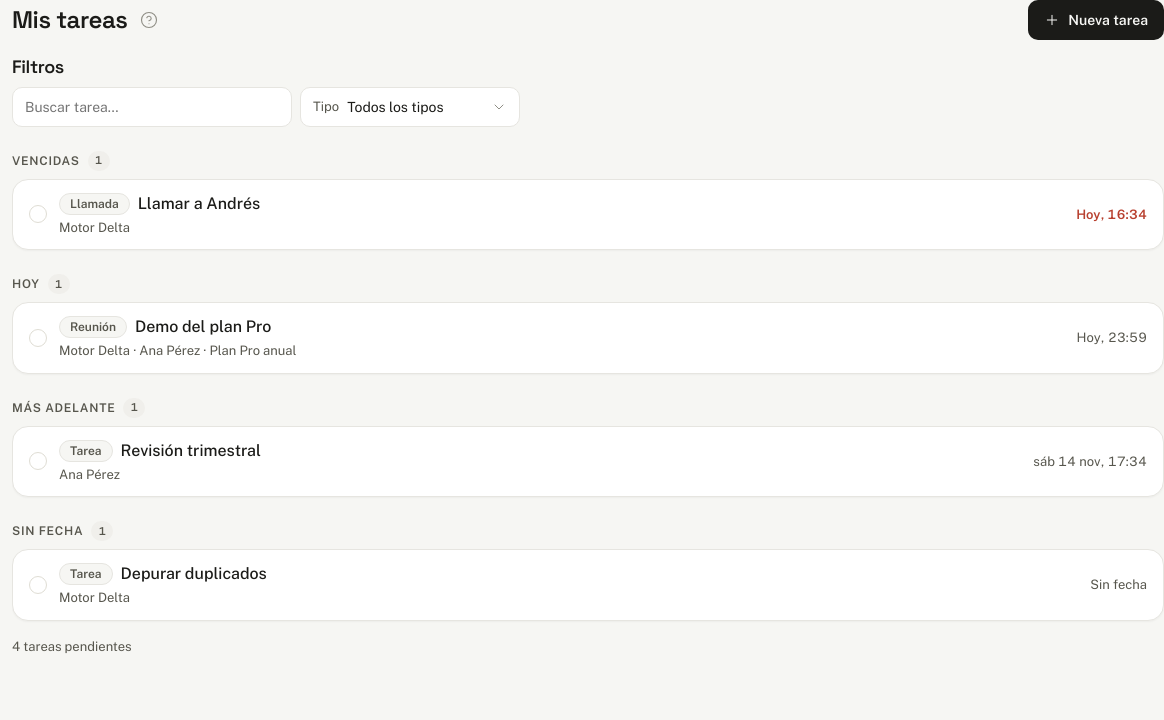
Scenario: MyTasksPage › (b) tildar el checkbox dispara PATCH { completedAt: ahora } y la fila pasa en el acto a 'Esperando confirmación', sin checkbox y con la fecha de completada (§29
Expected: the text "Llamar a Andrés" is shown, [138,192,260,216]
Step 1. Click the checkbox named "Completar: Llamar a Andrés" → (38, 214), box [29,205,47,223]
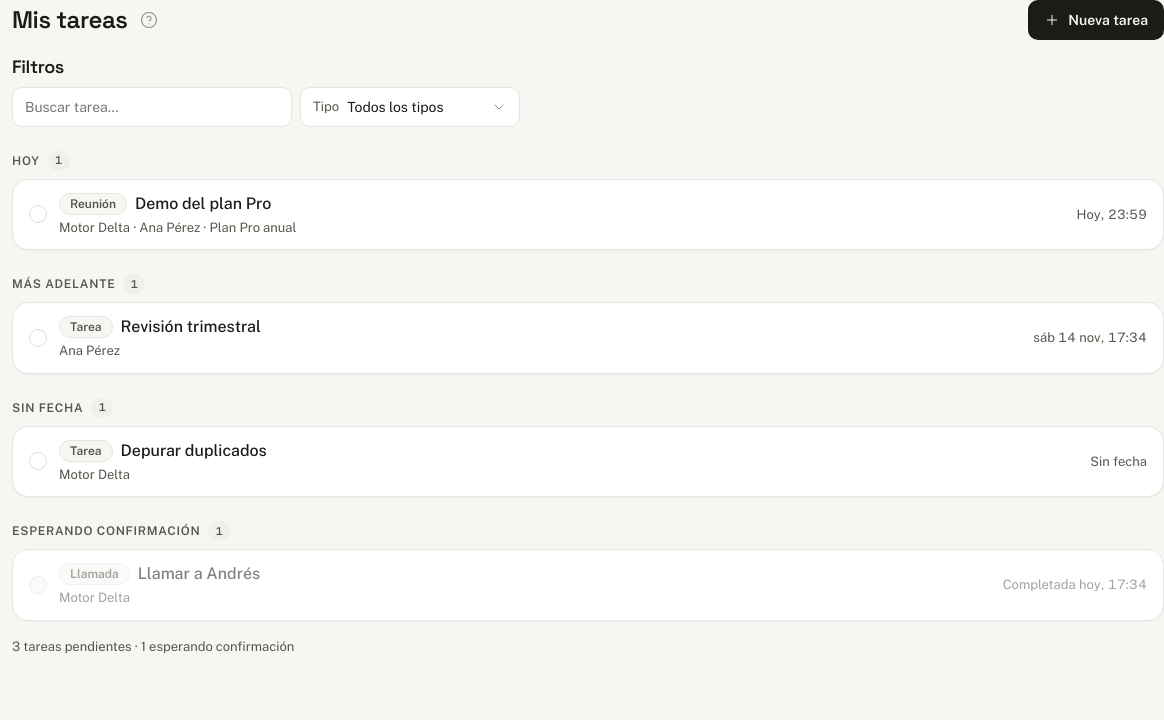
Expected: the text "Vencidas" is gone
Expected: the text "Completada hoy, 17:34" is shown, [1003,575,1147,594]
Expected: the text "3 tareas pendientes · 1 esperando confirmación" is shown, [12,638,294,654]
